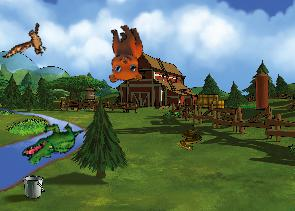bear: (96, 21, 150, 87)
crocodile: (19, 109, 85, 177)
eagle: (2, 15, 55, 73)
